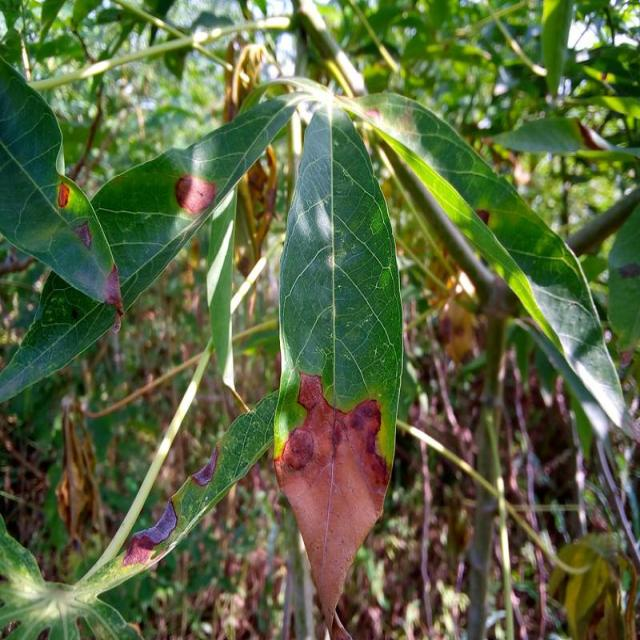cassava leaf: (2, 89, 307, 403), (272, 101, 406, 637), (2, 56, 122, 310)
